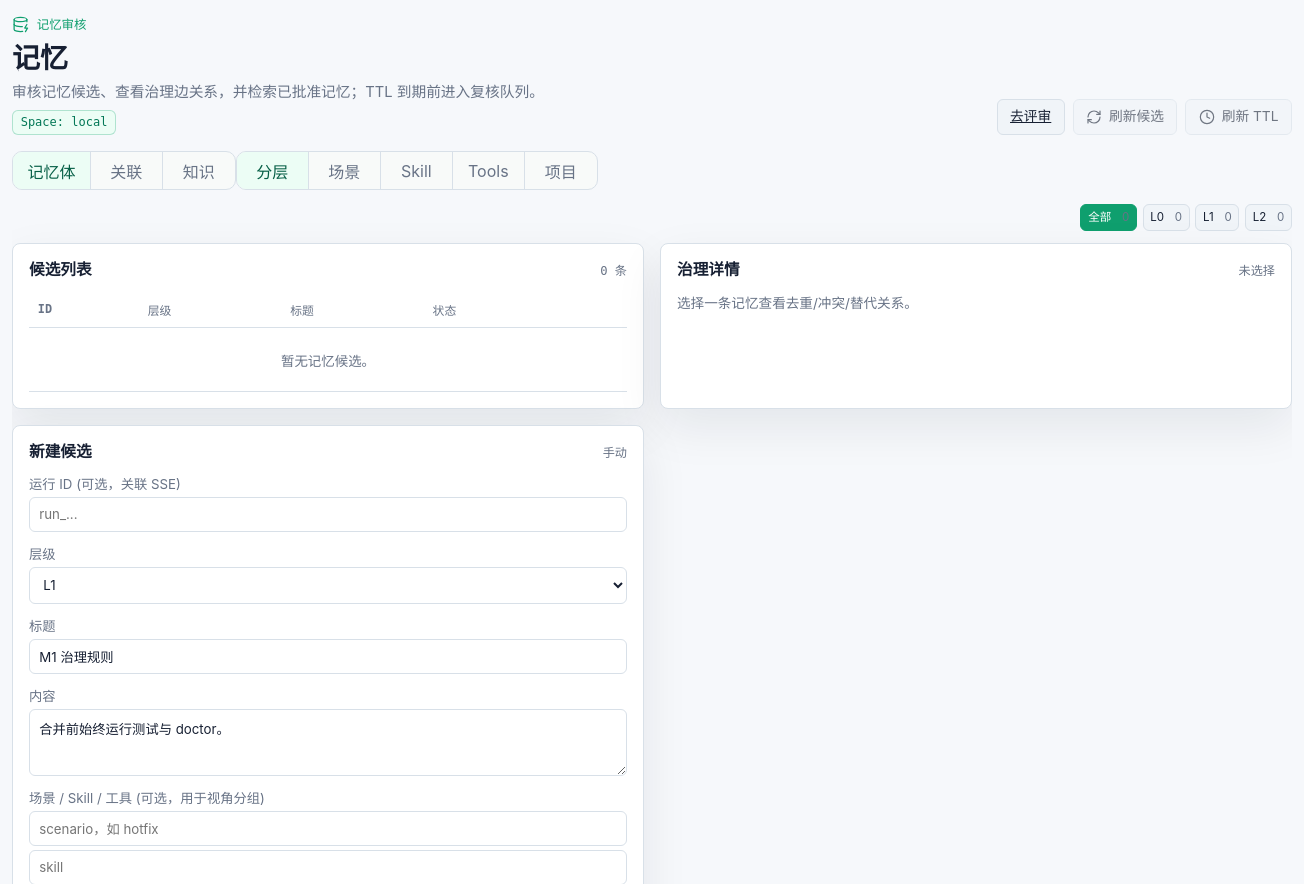
MemoryPage › groups skill perspective when skill tags exist
Click the button with test id "memory-perspective-skill" at [417, 171], box [381, 152, 453, 189]
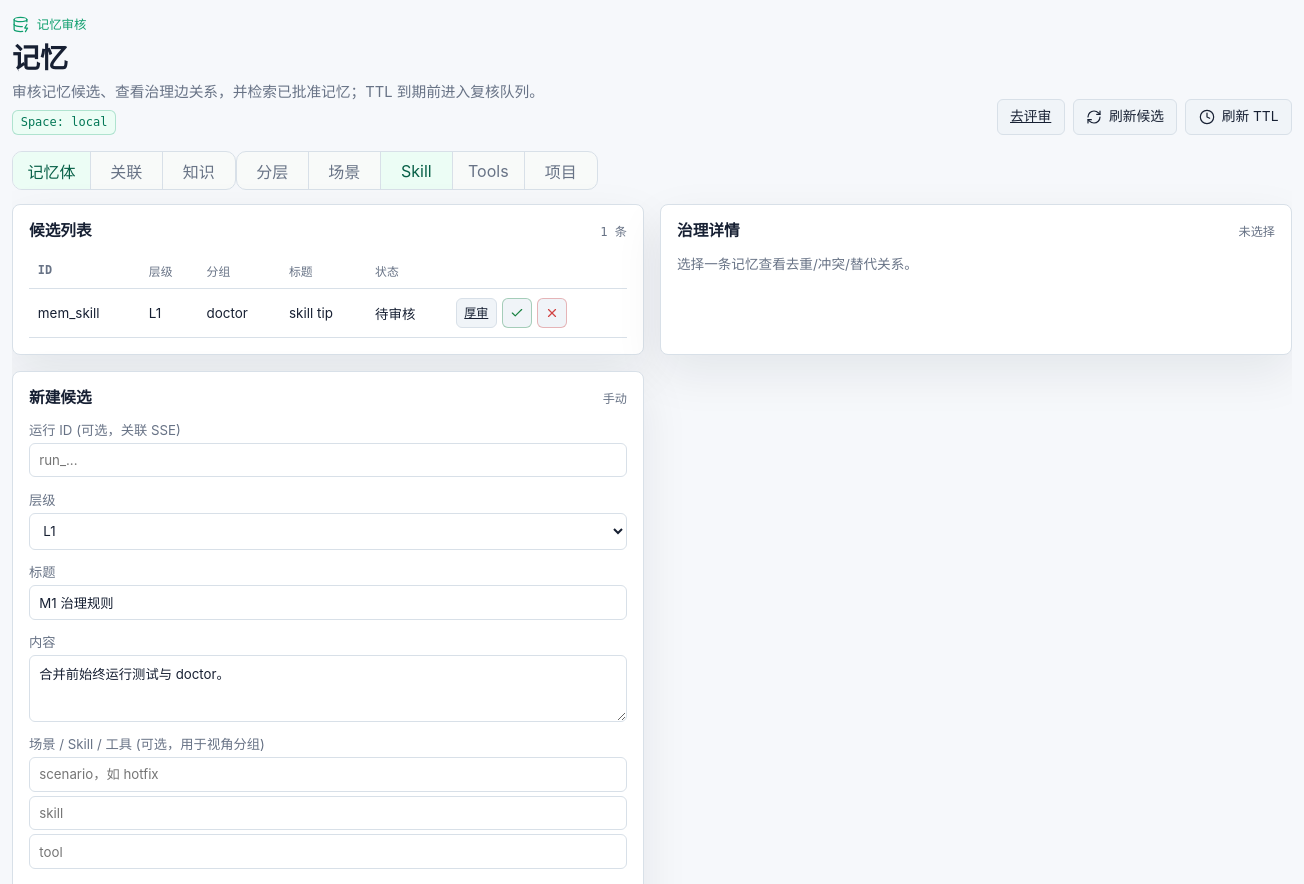
Result: the cell with test id "memory-perspective-group" reads "doctor" at [207, 305, 248, 321]
